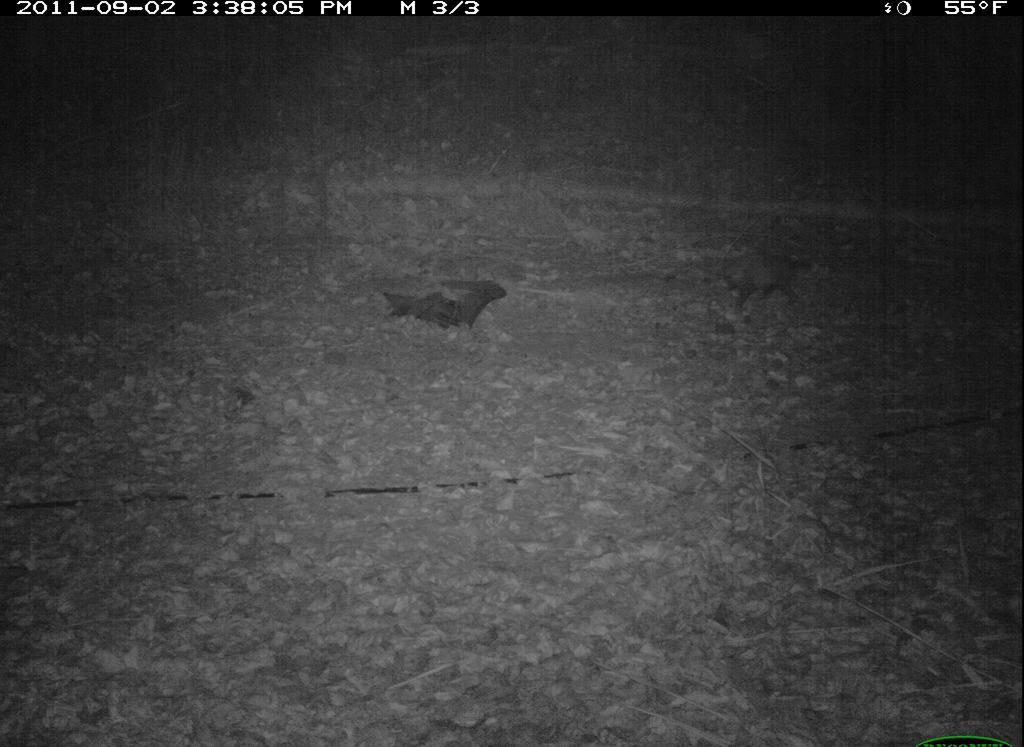opossum: (689, 239, 826, 328)
